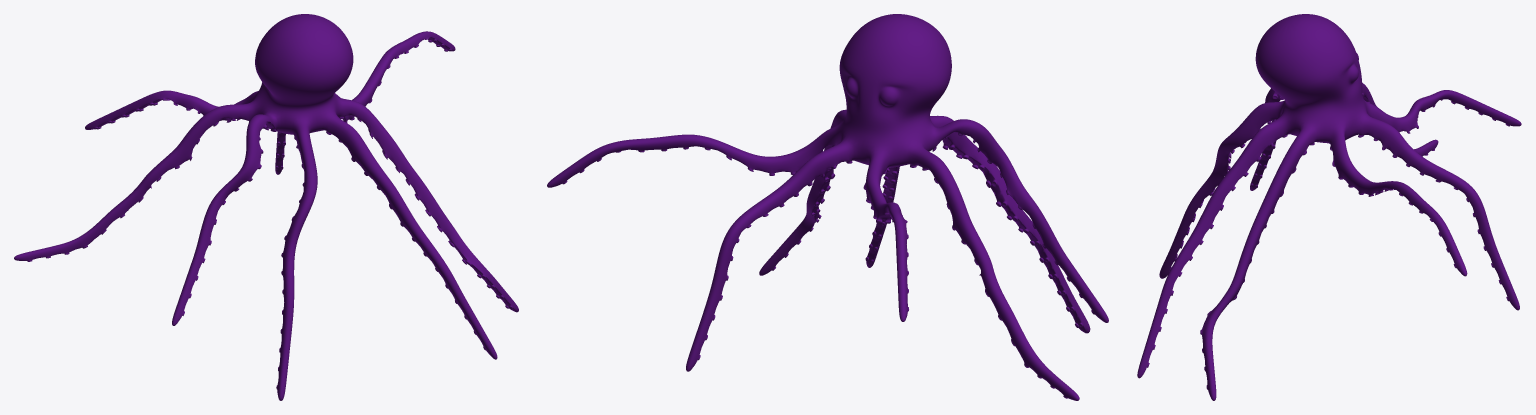
Rendered from demo-1-octoNPC.fbx.
The picture shows the model from 3 angles, left to right: view 1: azimuth 30°, elevation 25°; view 2: azimuth 150°, elevation 25°; view 3: azimuth 270°, elevation 25°; orthographic projection. The views are drawn at different scales.
Visible parts, largest first — view 1: pSphere4; view 2: pSphere4; view 3: pSphere4.
Part boxes in pixels (x1,y1,x2,y2): pSphere4: [14, 14, 518, 400]; pSphere4: [547, 14, 1108, 400]; pSphere4: [1137, 14, 1521, 400].
Bounding box in the file's own units: 14.28 × 9.18 × 10.4.
